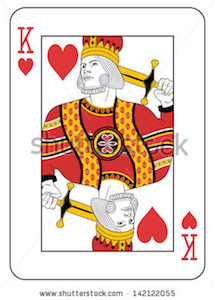KingOfHearts: (3, 2, 208, 281)
